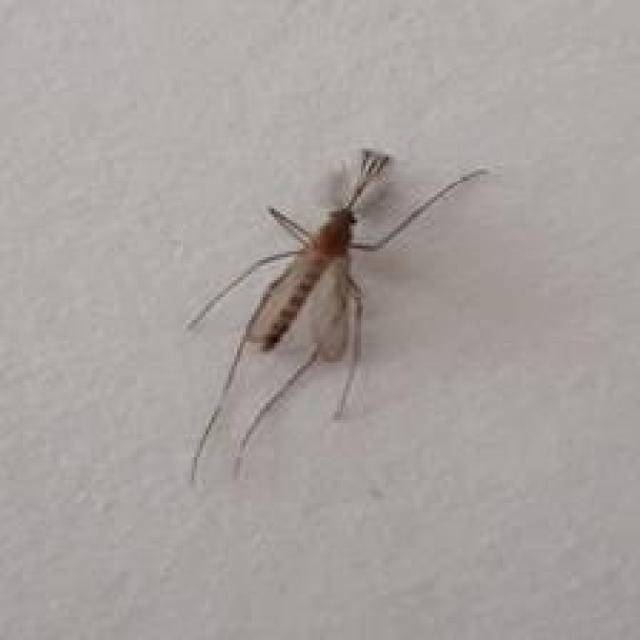Culex: (183, 146, 491, 486)
